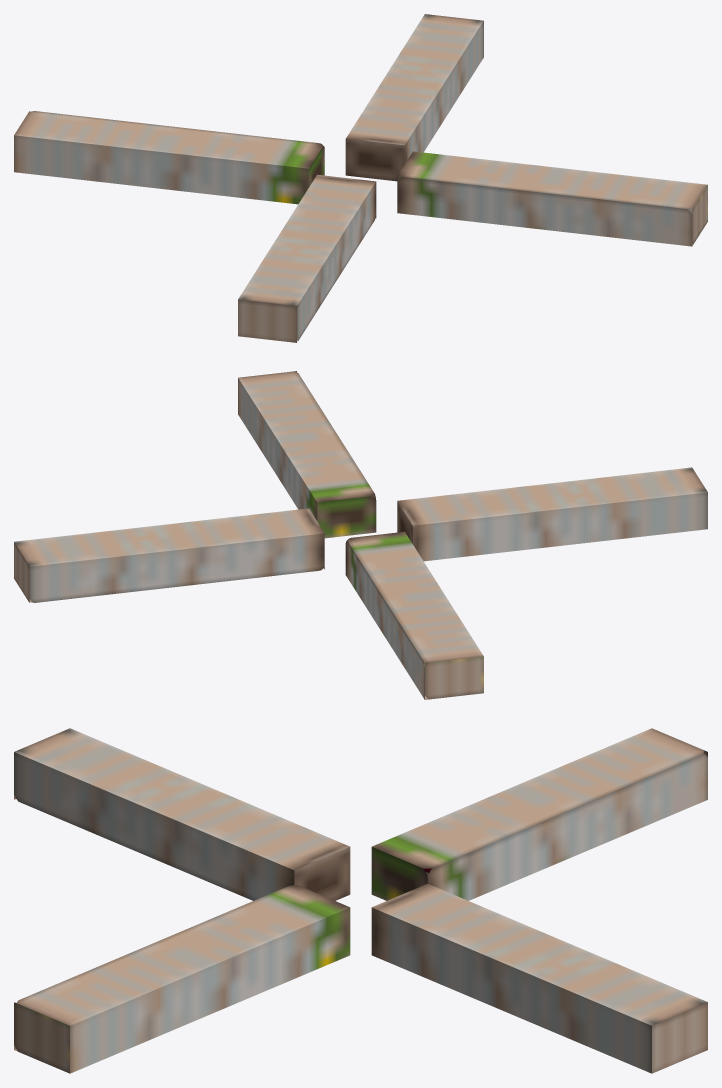
File: 傀儡之心.obj
The picture shows the model from 3 angles, top to bottom: view 1: azimuth 30°, elevation 25°; view 2: azimuth 150°, elevation 25°; view 3: azimuth 270°, elevation 25°; orthographic projection. The views are drawn at different scales.
Parts seen in each view (by area): view 1: left_arm, right_arm; view 2: right_arm, left_arm; view 3: right_arm, left_arm.
Boxes of the visible parts, box(x1,y1,x2,y2) form: left_arm: box(14, 111, 707, 246); right_arm: box(238, 14, 483, 342); right_arm: box(14, 467, 707, 602); left_arm: box(238, 371, 483, 699); right_arm: box(14, 728, 707, 1073); left_arm: box(14, 728, 707, 1073).
Bounding box in the file's own units: 3.33 × 0.25 × 3.28.
1 material, 1 textured.
